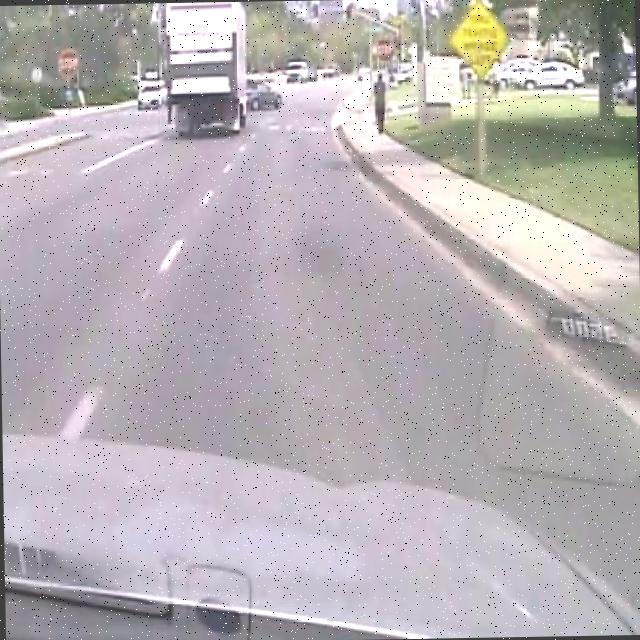Stop: (374, 38, 396, 61)
